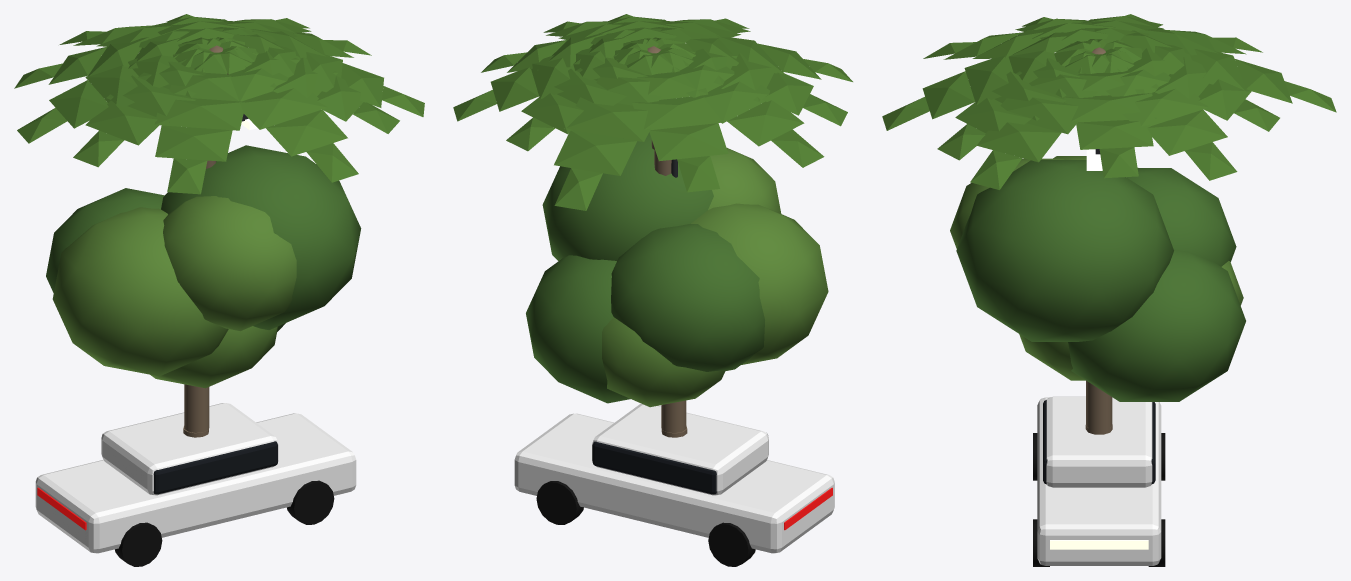
The model's file is props.glb.
The picture shows the model from 3 angles, left to right: view 1: azimuth 30°, elevation 25°; view 2: azimuth 150°, elevation 25°; view 3: azimuth 270°, elevation 25°; orthographic projection. The views are drawn at different scales.
Parts seen in each view (by area): view 1: tree, palm, car; view 2: tree, palm, car; view 3: tree, palm, car.
Boxes of the visible parts, <box> form: tree: <box>46,145,361,388</box>; palm: <box>14,14,424,437</box>; car: <box>35,403,356,566</box>; tree: <box>526,132,828,407</box>; palm: <box>453,14,852,437</box>; car: <box>514,403,834,566</box>; tree: <box>950,156,1245,401</box>; palm: <box>882,14,1336,434</box>; car: <box>1033,396,1165,566</box>.
Bounding box in the file's own units: 5.72 × 7.6 × 6.46.
